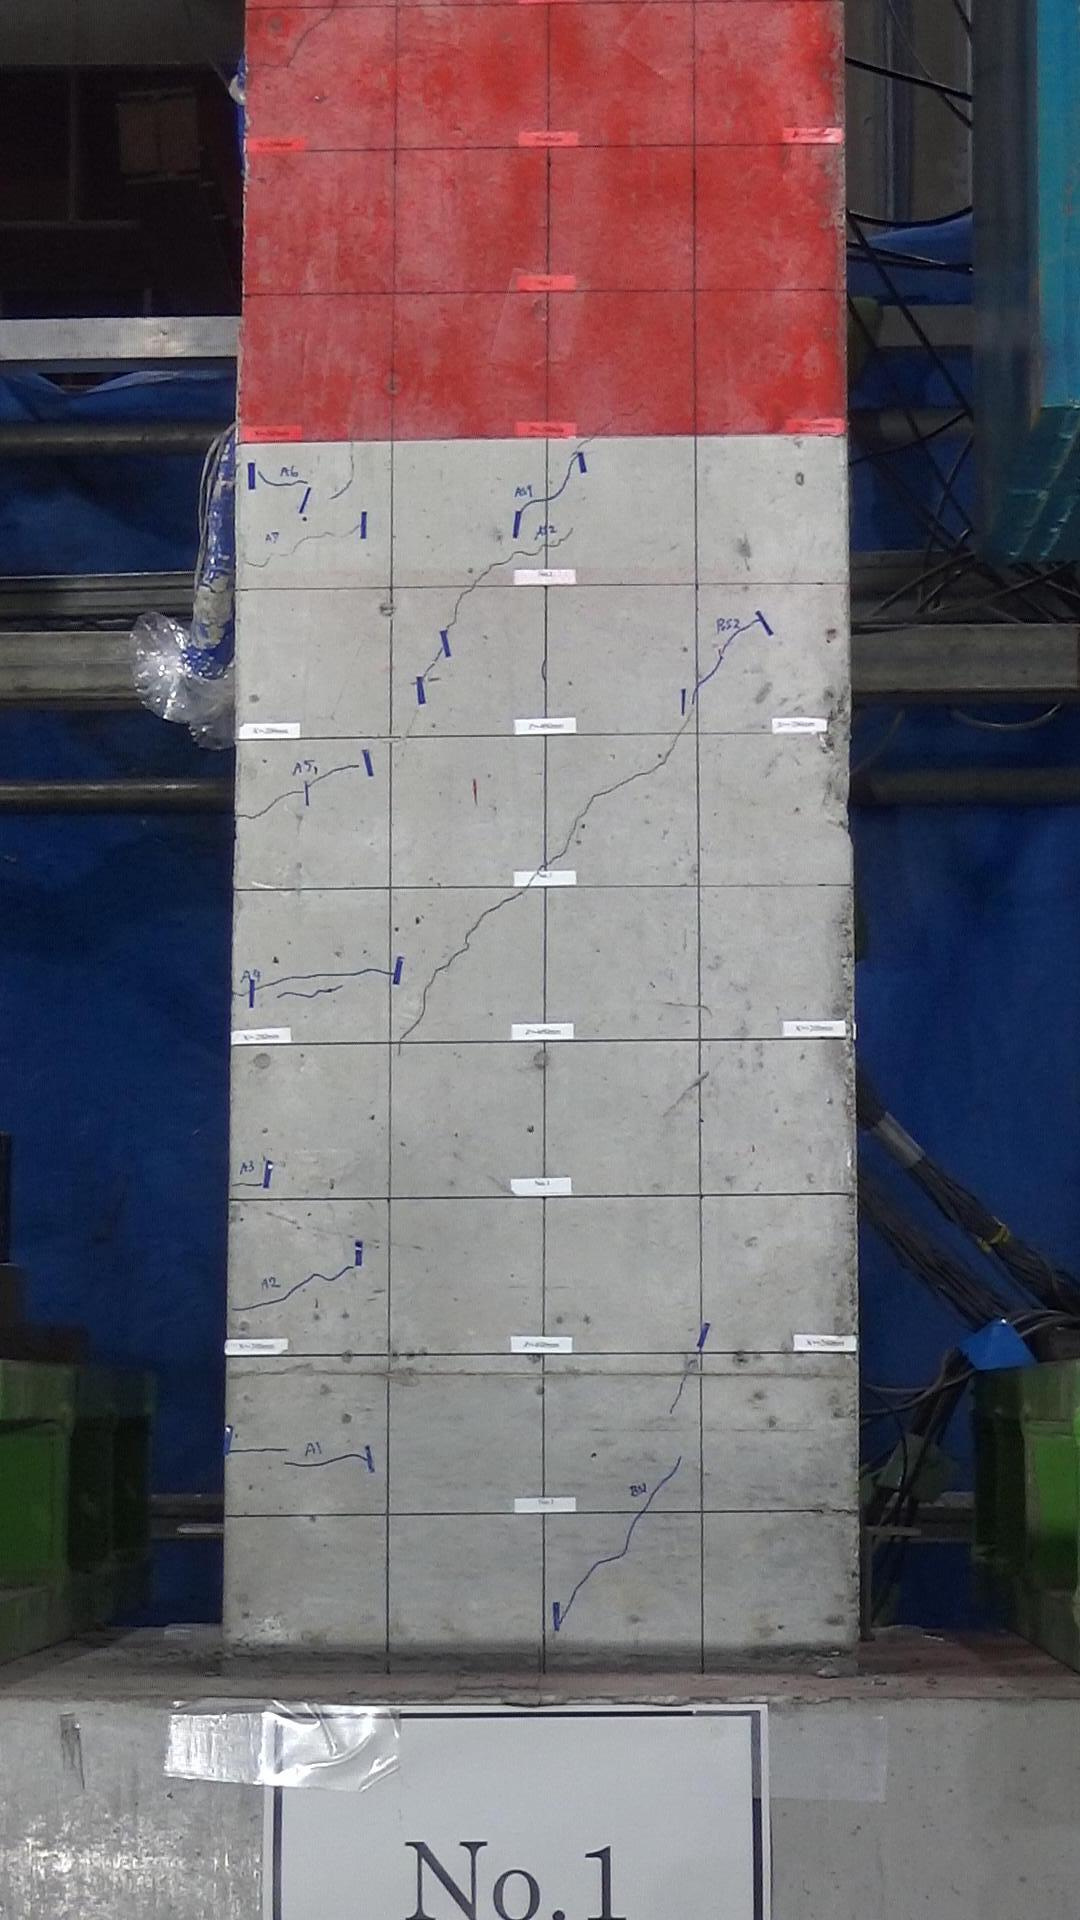Flexure Crack: (270, 963, 355, 986), (303, 760, 363, 790), (282, 1451, 371, 1470), (284, 1265, 353, 1288), (289, 522, 361, 545), (270, 982, 345, 1004), (257, 469, 313, 495), (256, 785, 313, 807), (233, 803, 278, 828), (241, 554, 293, 574), (343, 963, 397, 980), (233, 978, 276, 1000), (228, 1302, 287, 1311), (225, 1447, 291, 1455), (231, 1178, 266, 1191)
Shear Crack: (665, 1350, 698, 1420), (455, 909, 493, 952), (636, 1473, 670, 1516), (580, 1552, 629, 1582), (397, 1007, 427, 1055), (560, 1578, 585, 1627), (430, 953, 471, 982), (485, 887, 530, 913), (621, 1513, 646, 1555), (562, 808, 592, 843), (473, 560, 509, 589), (506, 545, 553, 566), (414, 654, 443, 687), (549, 835, 578, 866), (705, 647, 733, 680), (415, 975, 439, 1011), (516, 495, 553, 518), (454, 582, 480, 613), (442, 607, 465, 641), (609, 773, 650, 793), (579, 790, 615, 812), (688, 671, 711, 705), (647, 749, 674, 775), (717, 629, 745, 654), (670, 723, 691, 752), (742, 611, 766, 636), (553, 477, 571, 504), (568, 454, 582, 480)
